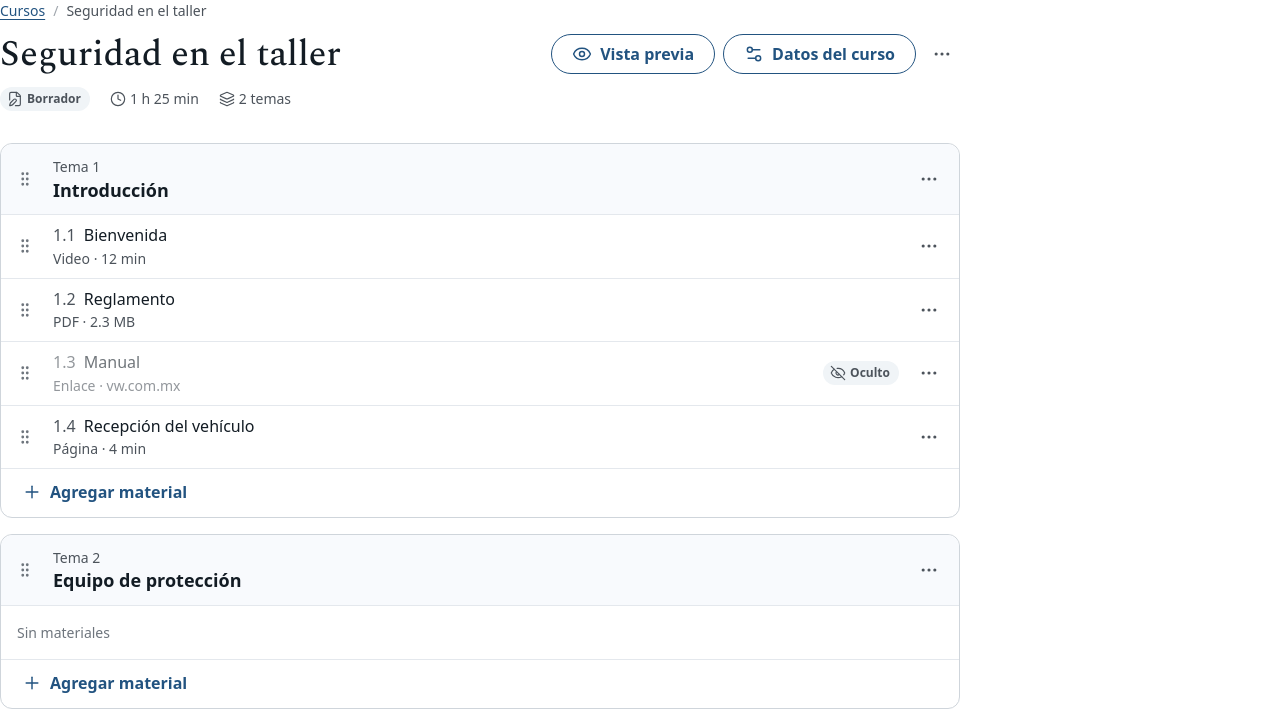
Test: Editor de contenido del curso › una página nueva no se guarda sin contenido y el panel se ensancha para escribirla
Click the button with aria-label "Agregar material al tema 2" at (105, 684), box [17, 668, 192, 698]
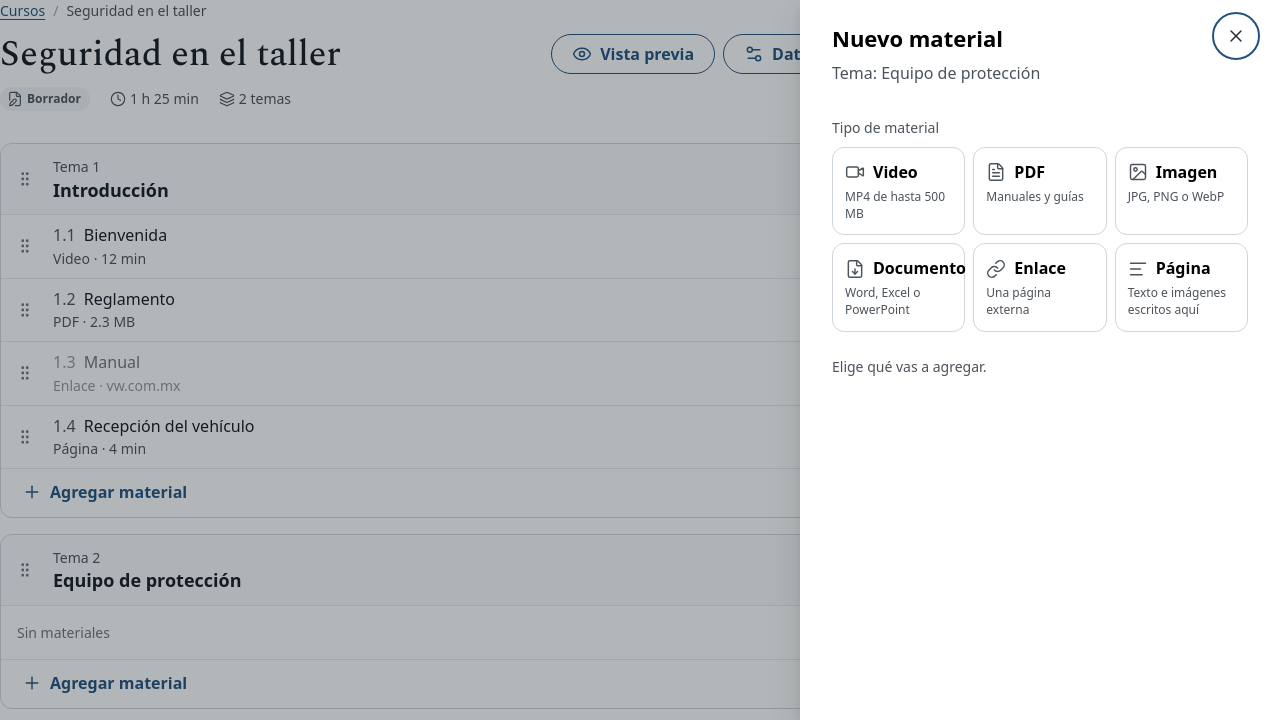
Click the radio button labelled "Página Texto e imágenes escritos aquí" at (1181, 288), box [1115, 244, 1248, 332]
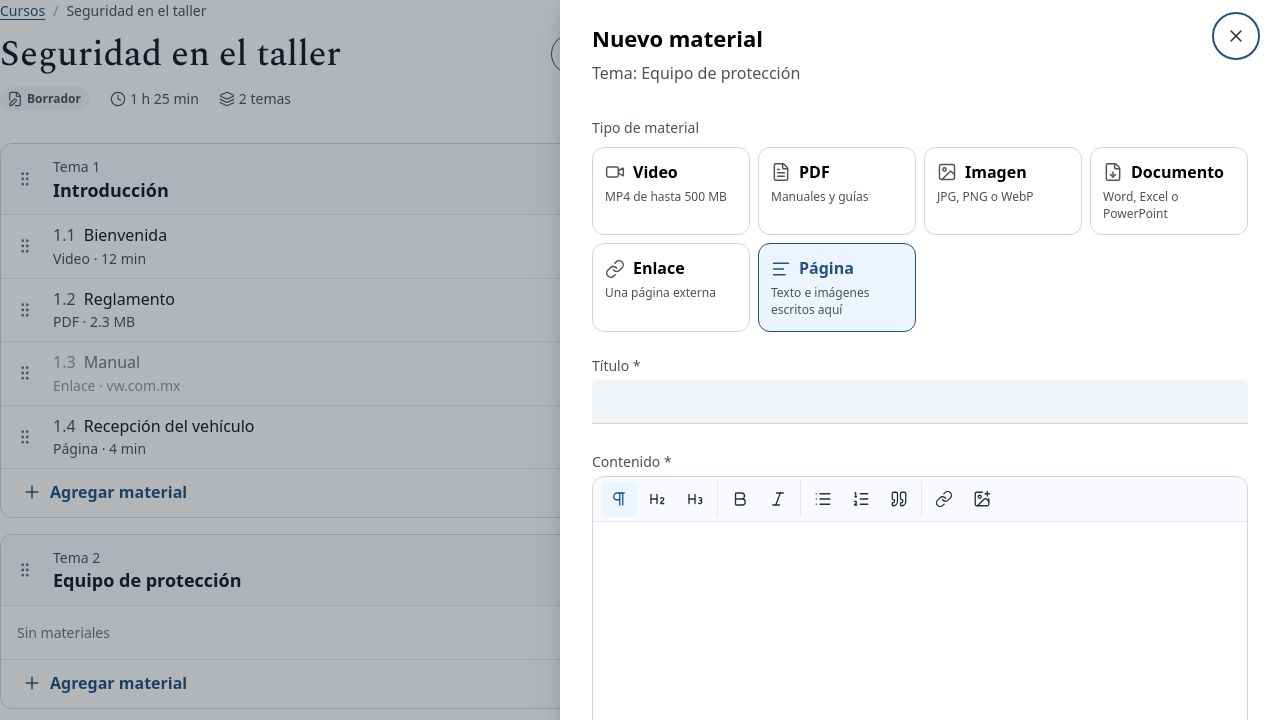
Result: the element named "Formato de la página" is shown at [593, 478, 1247, 522]
Result: the element showing "Contenido * Sin texto todavía" is shown at [592, 452, 1248, 719]
Type "Recepción" into the field labelled "Título *" at (920, 402), box [592, 380, 1248, 424]
(page scrolled)
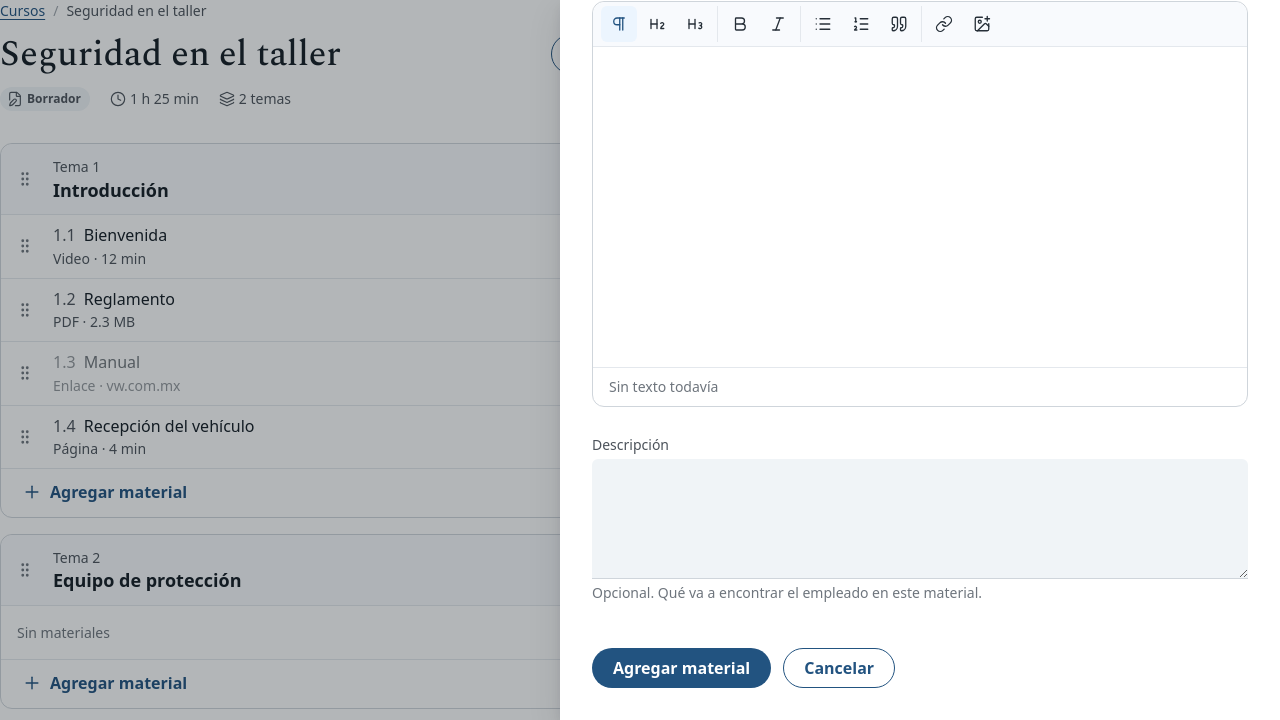
Click the button "Agregar material" at (682, 668), box [592, 648, 771, 688]
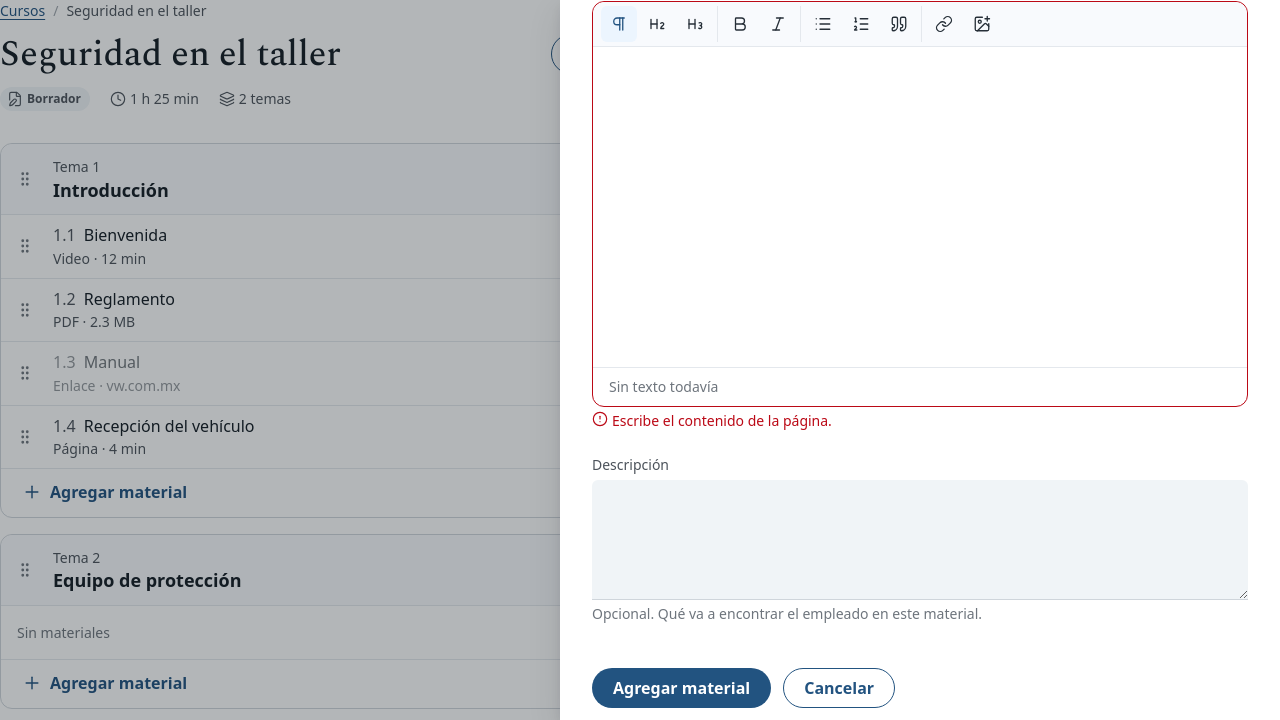
Result: the text "Escribe el contenido de la página." is shown at [612, 411, 832, 431]
